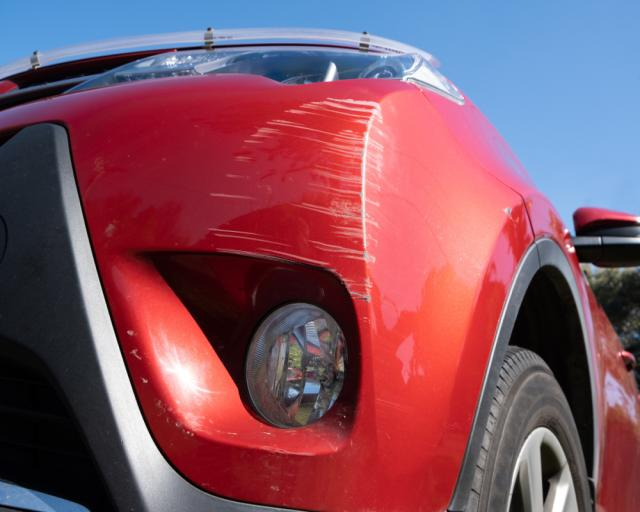scratch: (203, 95, 388, 305)
